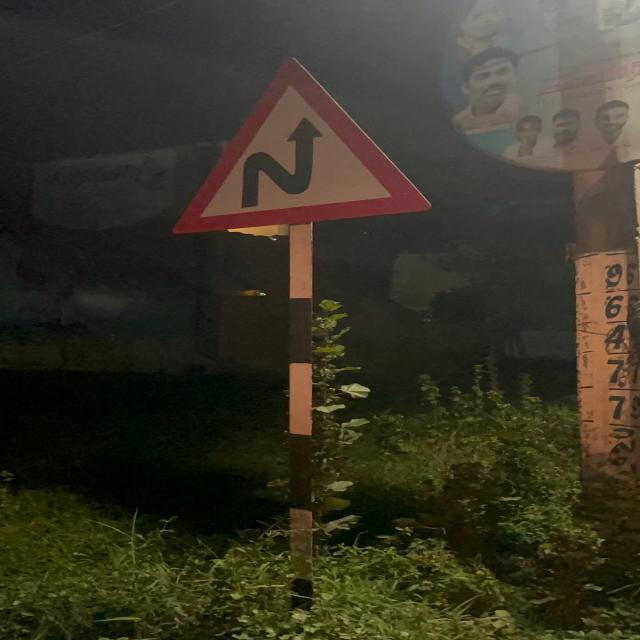right reverse bend: (170, 53, 429, 233)
